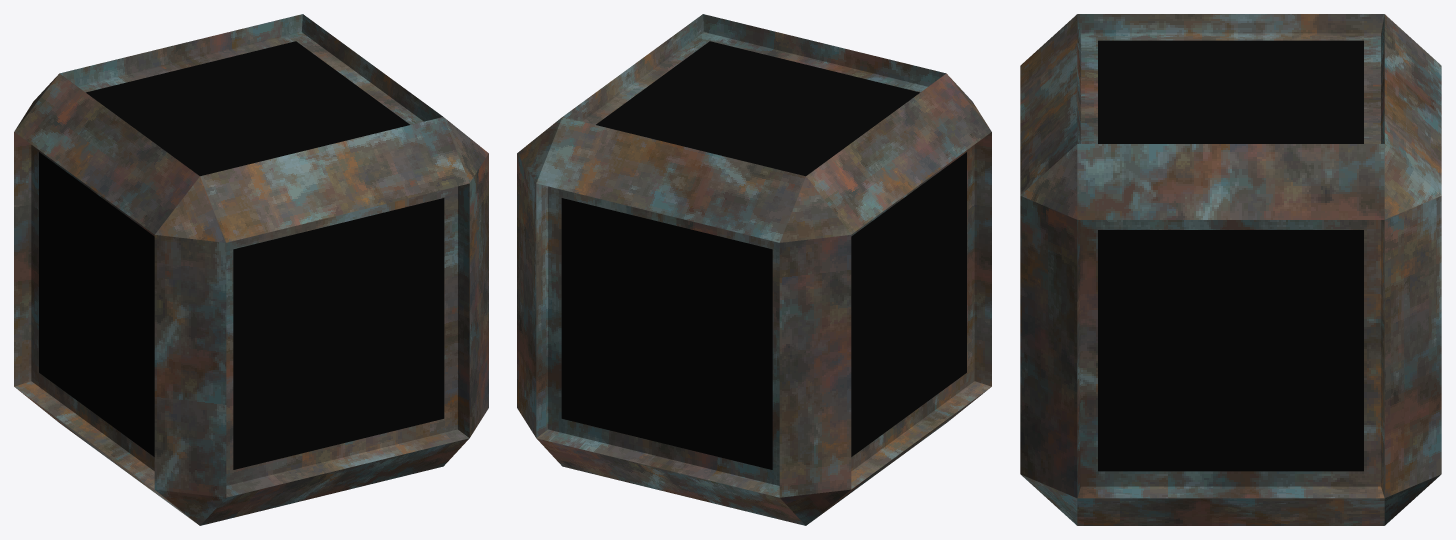
Rendered from item_module_boost_1.glb.
The picture shows the model from 3 angles, left to right: view 1: azimuth 30°, elevation 25°; view 2: azimuth 150°, elevation 25°; view 3: azimuth 270°, elevation 25°; orthographic projection. The views are drawn at different scales.
Parts seen in each view (by area): view 1: Module_Box_submesh_1, Module_Box_submesh_0; view 2: Module_Box_submesh_1, Module_Box_submesh_0; view 3: Module_Box_submesh_1, Module_Box_submesh_0.
Boxes of the visible parts, <box> form: Module_Box_submesh_1: <box>14,14,488,525</box>; Module_Box_submesh_0: <box>39,41,444,469</box>; Module_Box_submesh_1: <box>517,14,991,525</box>; Module_Box_submesh_0: <box>561,41,966,469</box>; Module_Box_submesh_1: <box>1020,14,1441,525</box>; Module_Box_submesh_0: <box>1098,40,1363,471</box>.
Bounding box in the file's own units: 0.2758 × 0.2758 × 0.2758.
Materials: 2 (1 with a texture image).
